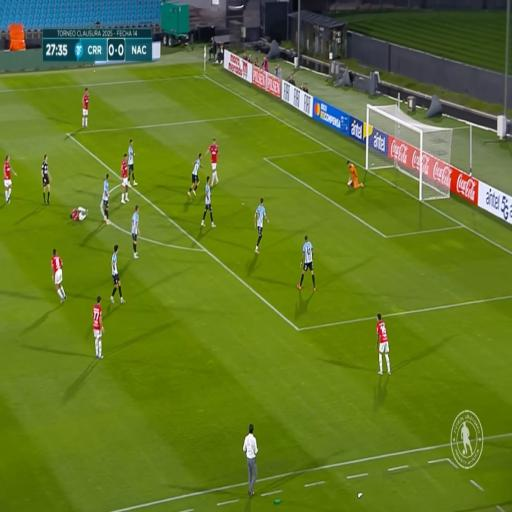Goalkeeper: (344, 157, 364, 189)
Player: (297, 234, 318, 292), (49, 247, 66, 311), (254, 193, 268, 258), (376, 310, 389, 378), (92, 293, 104, 356), (189, 153, 205, 197), (111, 244, 121, 302), (102, 170, 112, 224), (132, 203, 140, 265), (128, 133, 136, 191), (210, 132, 218, 186), (3, 154, 12, 202), (70, 206, 89, 224), (83, 86, 91, 126), (206, 176, 212, 226), (122, 154, 128, 202)
Referee: (42, 151, 51, 201)
